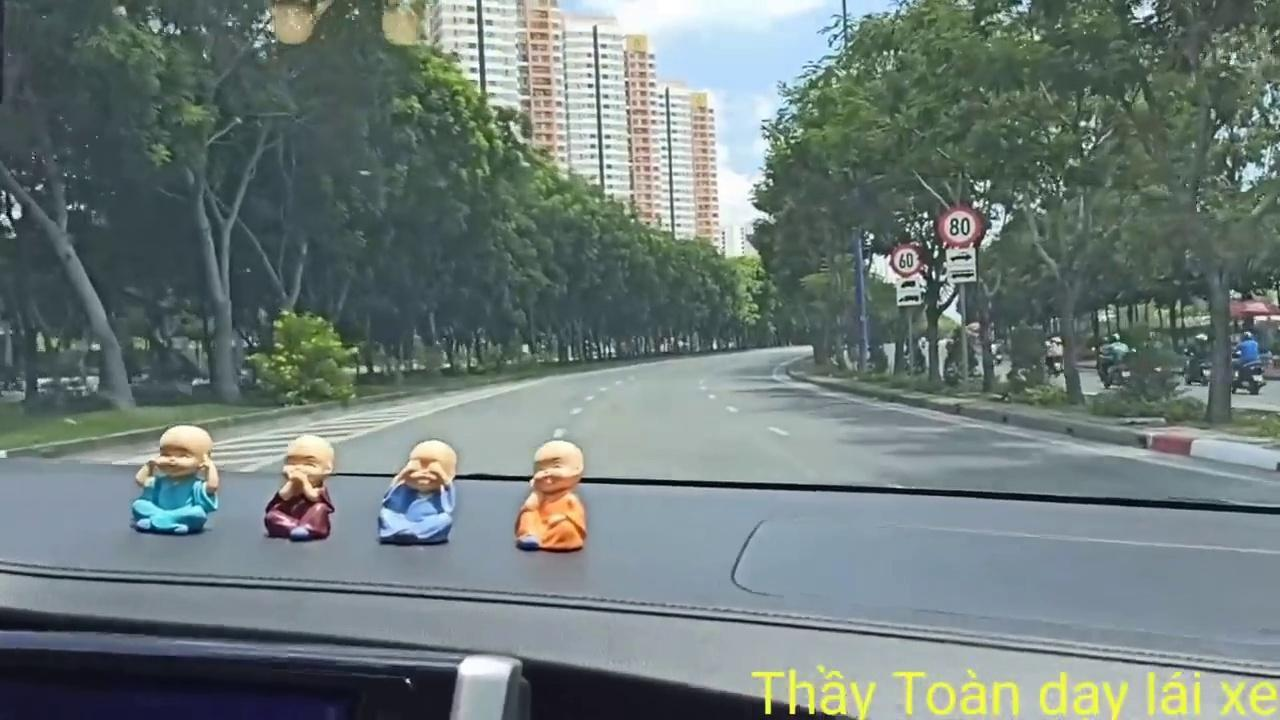Biển phụ: (946, 248, 977, 282), (897, 278, 920, 306)
GIơi hạn tốc độ 60Km/h: (891, 244, 922, 276)
Giới hạn tốc độ 80Km/h: (938, 206, 982, 246)
